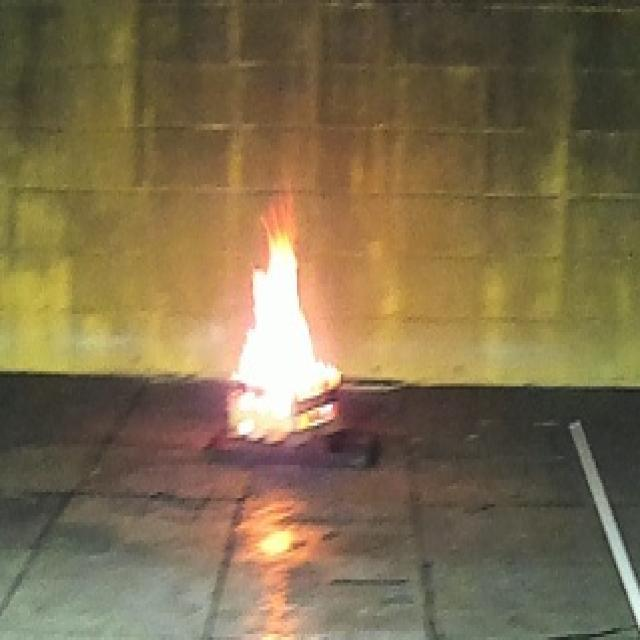Fire: (225, 181, 343, 445)
